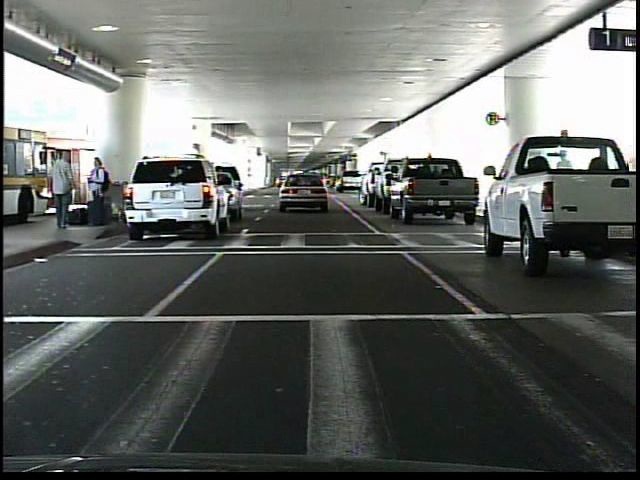person: (51, 150, 85, 235), (87, 155, 112, 230)
